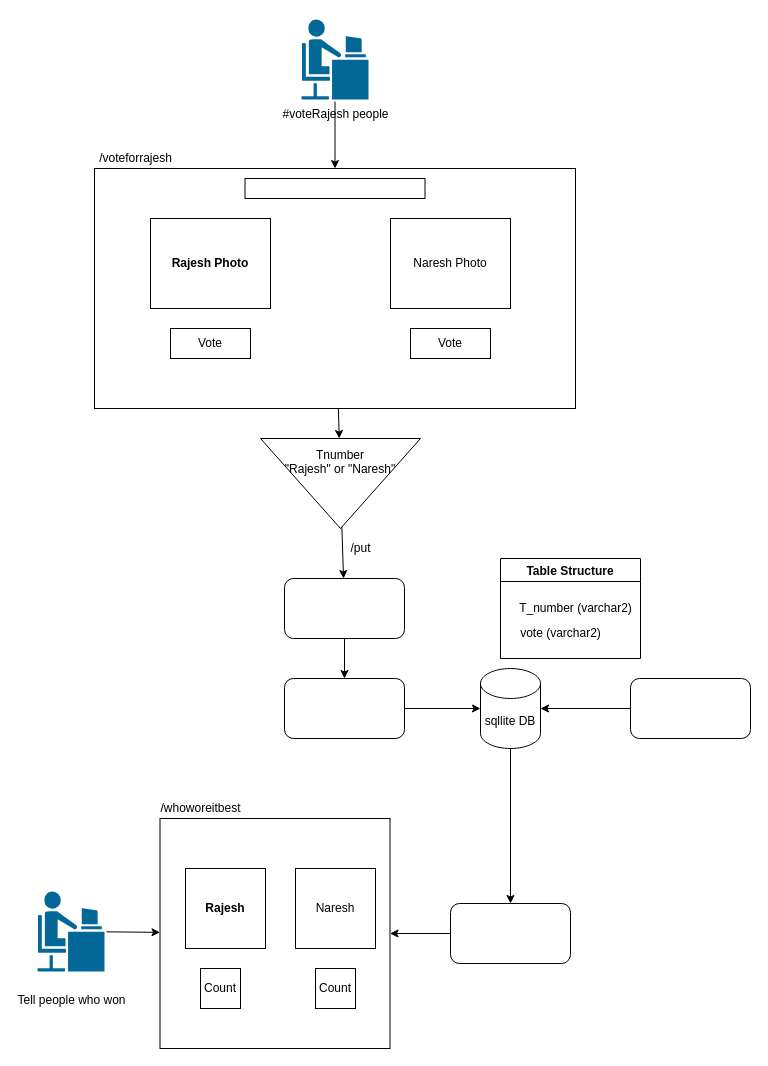
Some shapes in this 768 by 1066 pixel diagram are drawn without their labels. Here are the shapes that lost their labels. From the top down, the centre of each, then its label:
At (x=334, y=188): "Rajesh Voter Names".
At (x=344, y=608): "Receive T# & Vote".
At (x=344, y=708): "Update T# record with vote".
At (x=690, y=708): "Load T#s before campaign launch".
At (x=510, y=933): "calculate votes for Rajesh & Naresh & send dict back".
